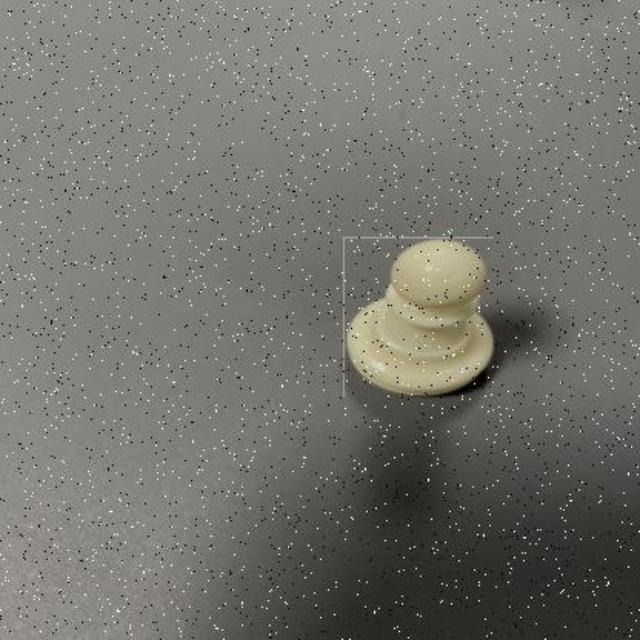white-pawn: (343, 237, 495, 398)
